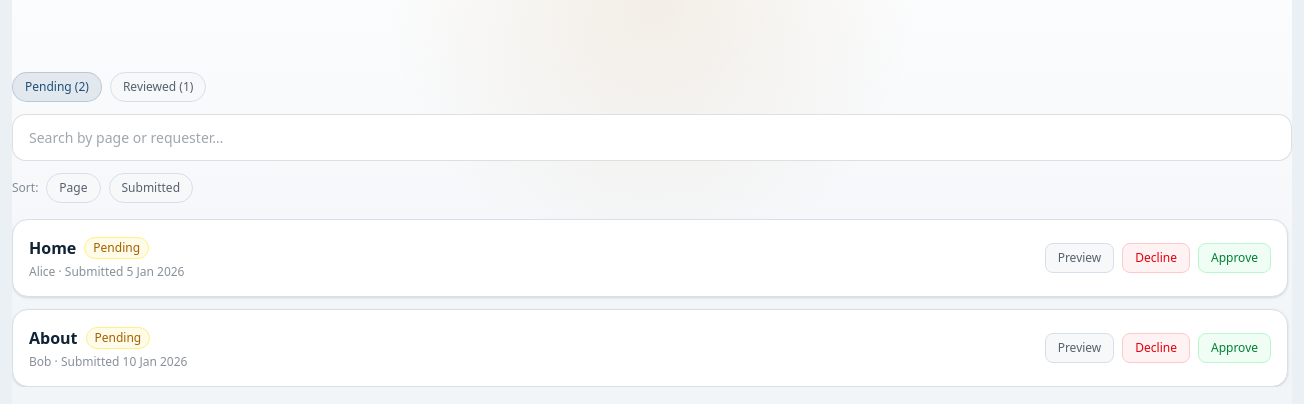
RequestsTab › filters the active list by search term
This screenshot has width=1304, height=404.
Check: the text "Alice · Submitted 5 Jan 2026" is shown, box [29,263,184,280]
Type "bob" into the field with placeholder "Search by page or requester…" at (652, 138), box [12,114,1292,161]
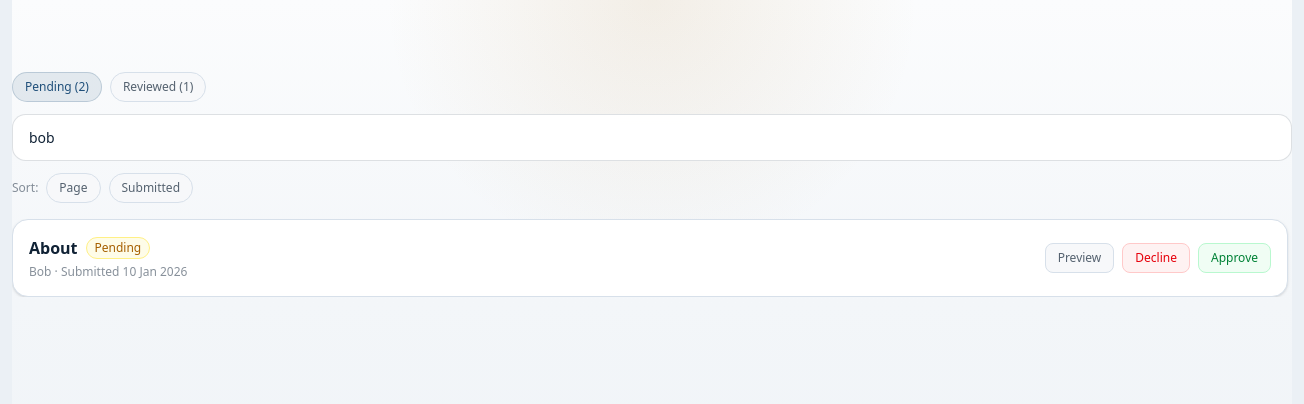
Check: the text "Bob · Submitted 10 Jan 2026" is shown, box [29,263,187,280]
Check: the text "Alice" is gone
